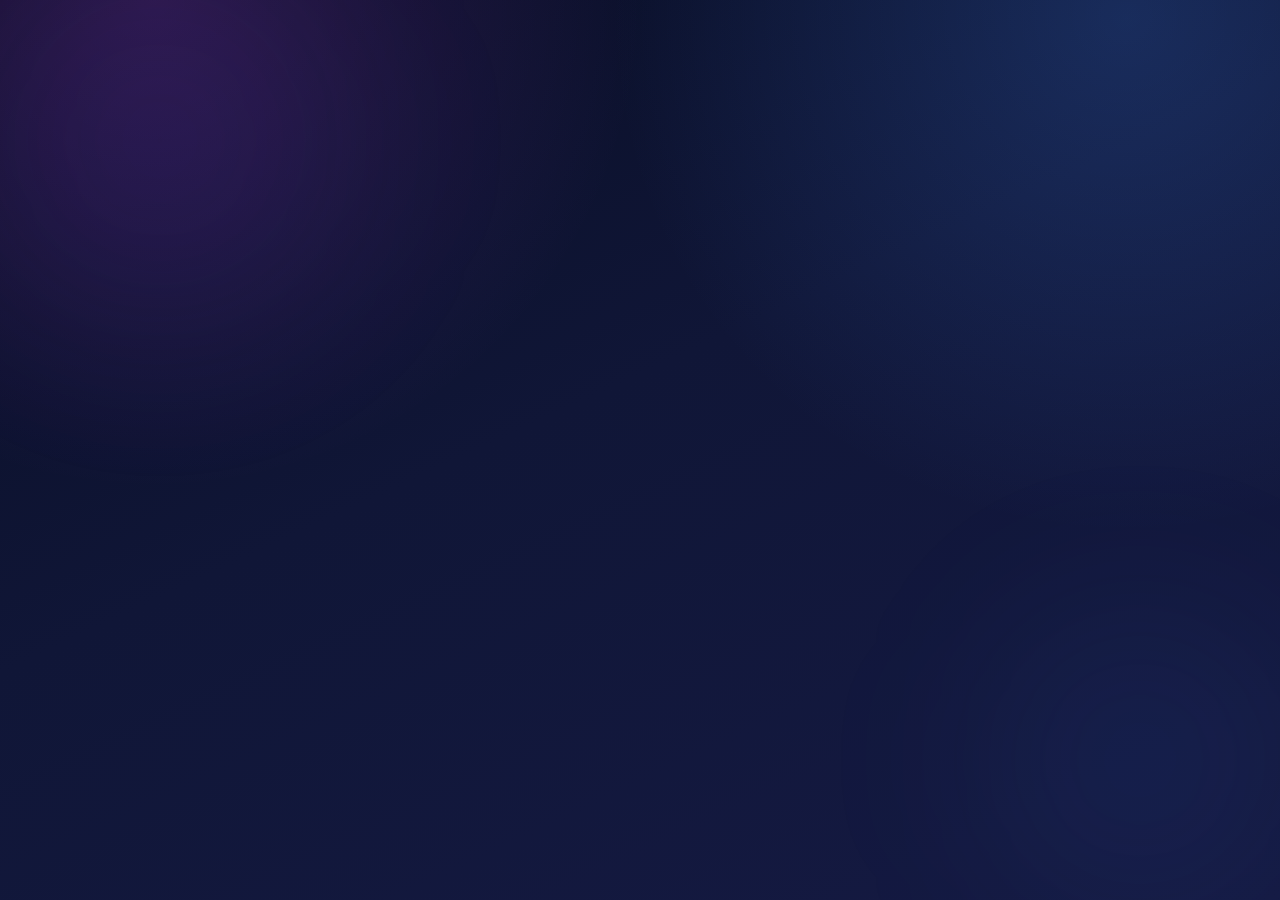
Scenario: CommandPalette - opening › closes when clicking backdrop
The image size is (1280, 900).
Press k
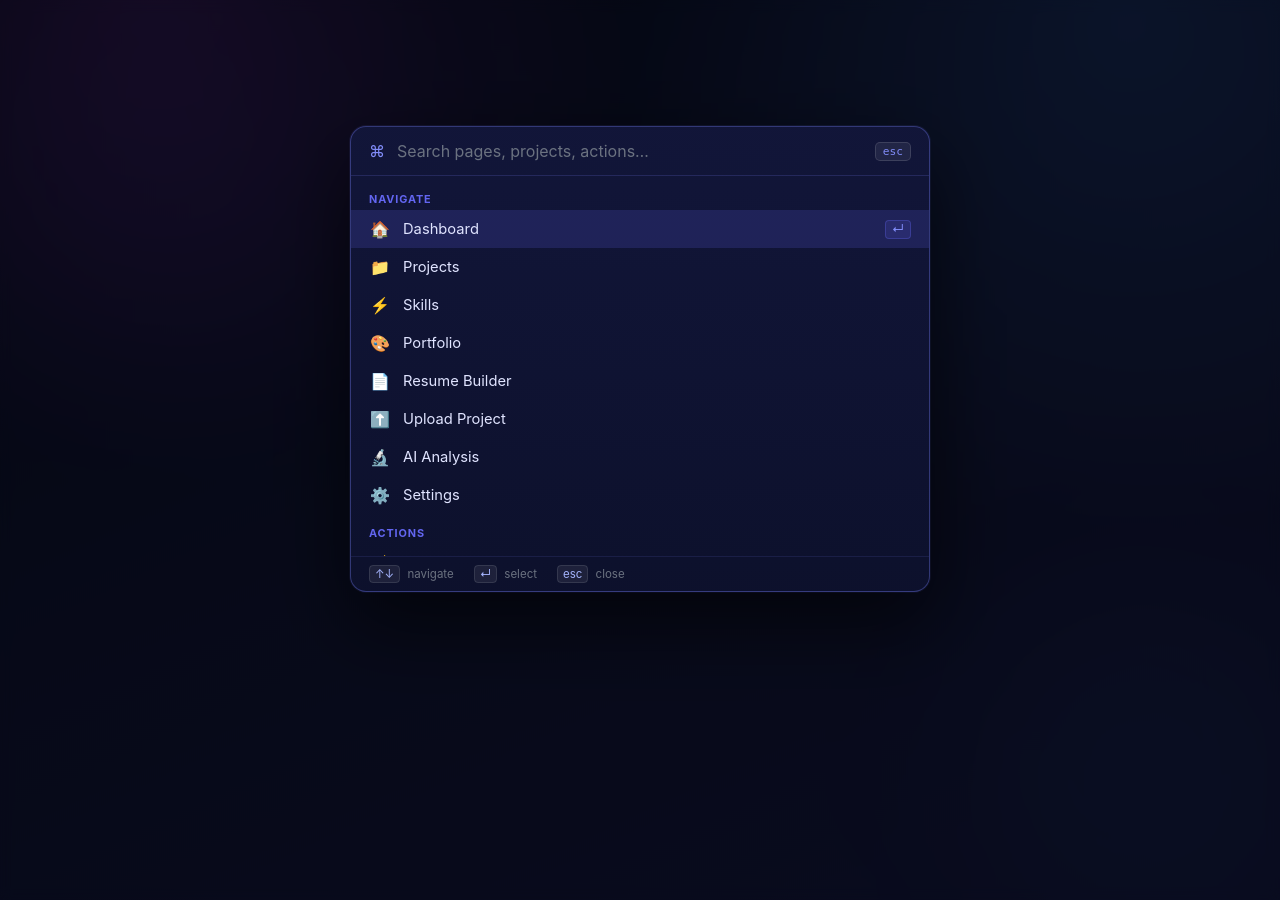
expect the element with class "cp-backdrop" is shown: met
Click the element with class "cp-backdrop".
click(77, 450)  # box [0,0,1279,899]
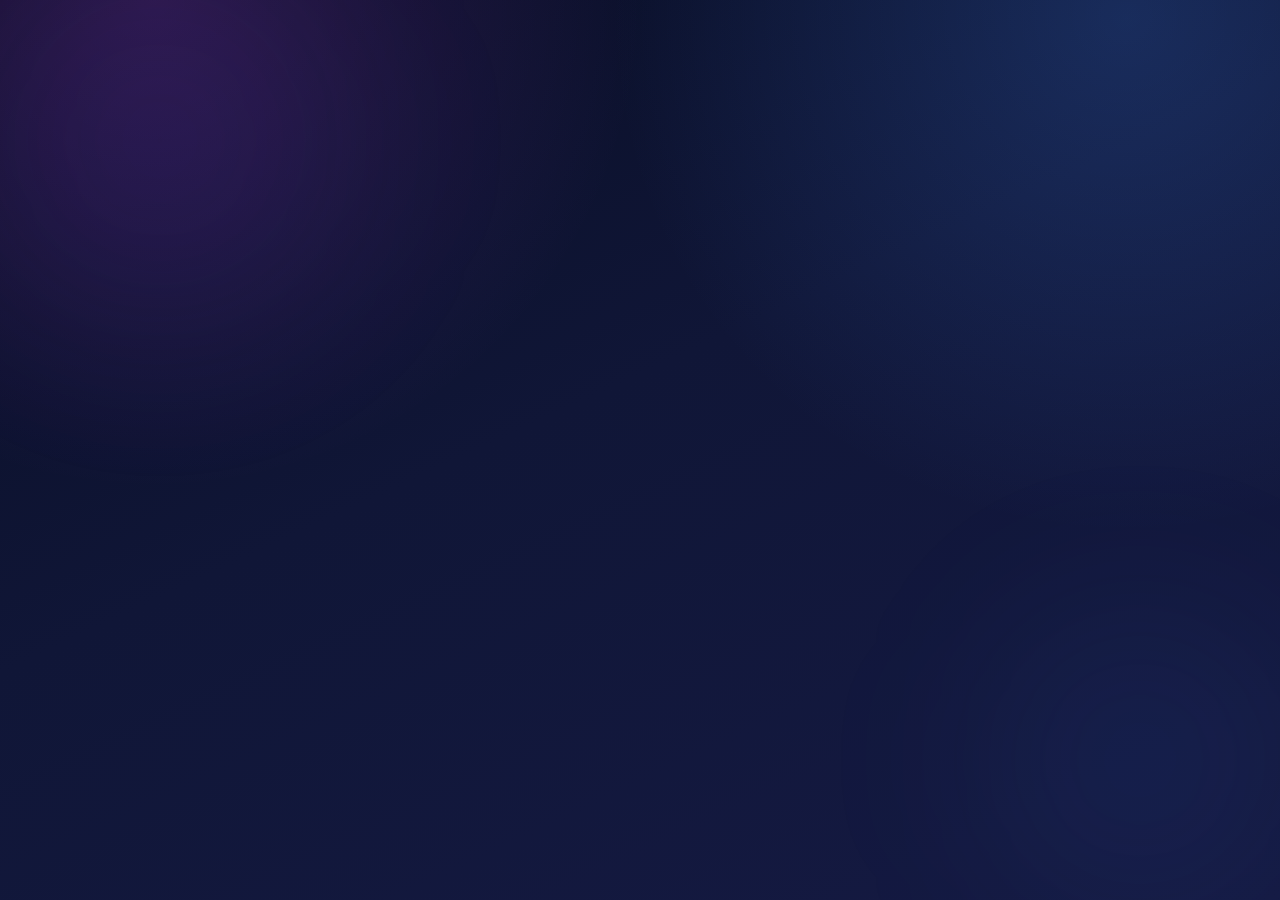
expect the element with class "cp-modal" is gone: met
